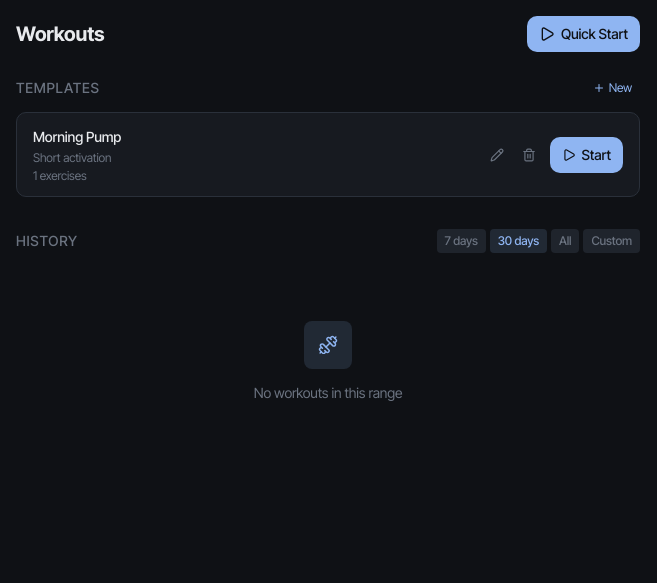
Test: WorkoutDashboard templates › deletes a template through the API and drops it from the list
Click the button named "Delete Morning Pump": (528,155) [514, 140, 544, 170]
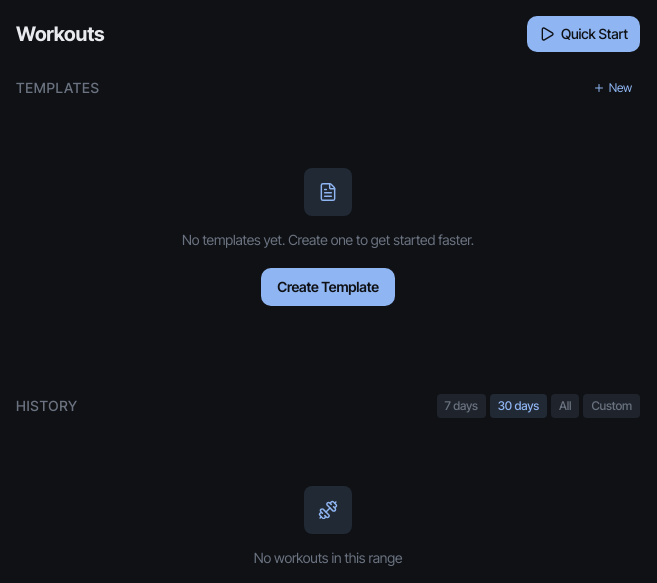
Check: the text "Morning Pump" is gone
